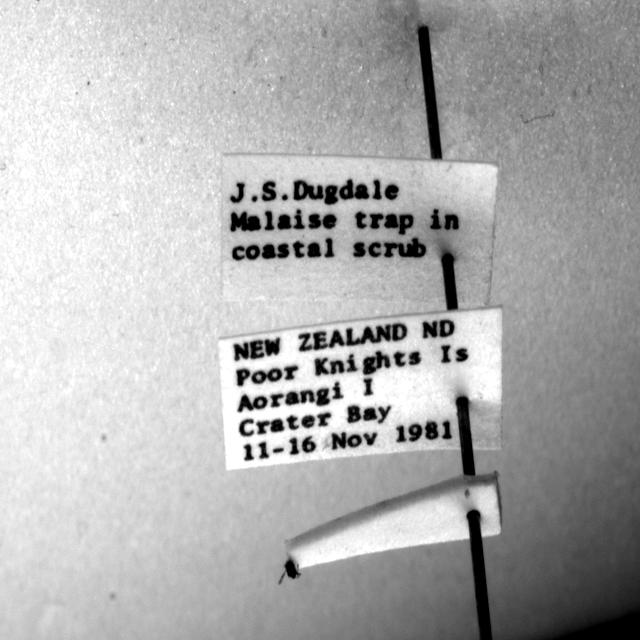typed_label: (219, 308, 502, 469), (222, 154, 498, 306)
